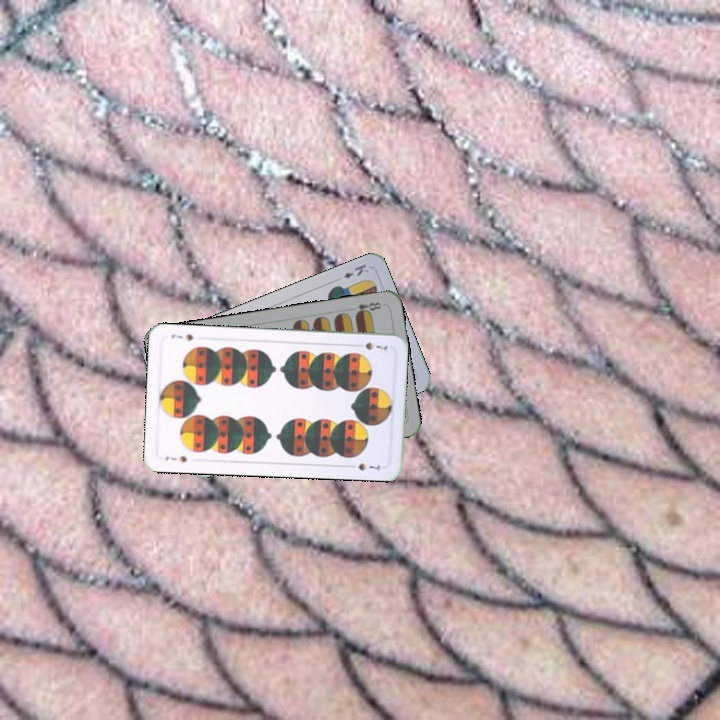E8: (345, 298, 384, 318)
EK: (339, 260, 371, 281)
S7: (351, 338, 390, 353), (161, 452, 190, 465)
